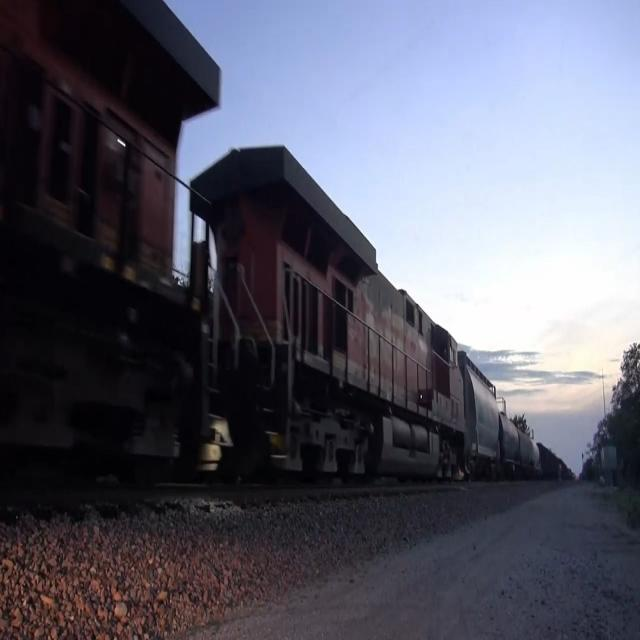hopper: (461, 346, 504, 492)
locomotive: (0, 0, 235, 518), (184, 118, 472, 496)
